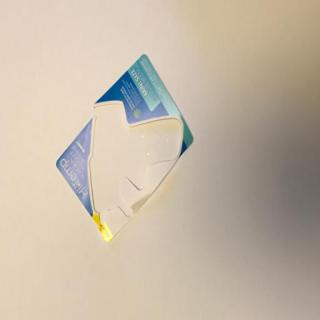PAPER: (55, 55, 193, 244)
